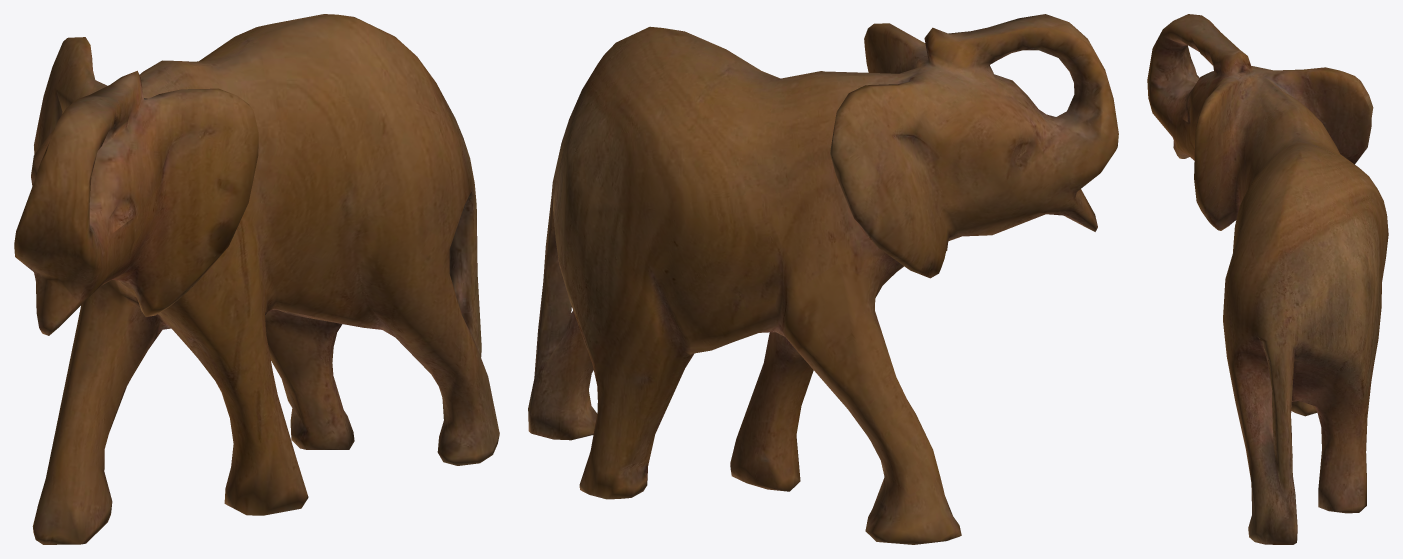
Rendered from carved_wooden_elephant.glb.
3 views of the same model, side by side, from view 1: azimuth 30°, elevation 25°; view 2: azimuth 150°, elevation 25°; view 3: azimuth 270°, elevation 25° (orthographic). The views are drawn at different scales.
Parts seen in each view (by area): view 1: carved_wooden_elephant; view 2: carved_wooden_elephant; view 3: carved_wooden_elephant.
Part boxes in pixels (x1,y1,x2,y2): carved_wooden_elephant: (14,14,499,544); carved_wooden_elephant: (528,14,1118,544); carved_wooden_elephant: (1147,14,1388,544).
Size of the model in its own units: 0.109 by 0.0962 by 0.0576.
Materials: 1 (1 with a texture image).
